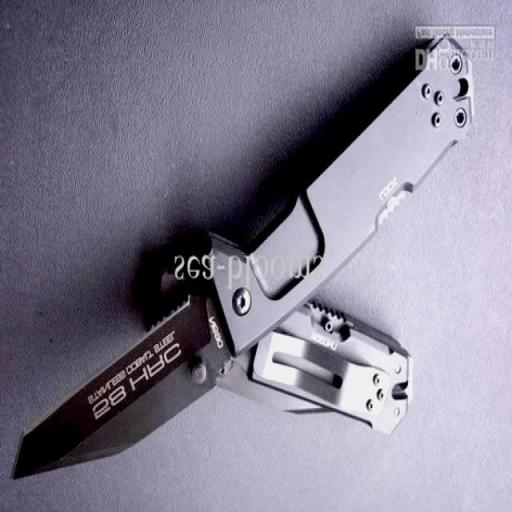knife: (7, 286, 233, 487)
